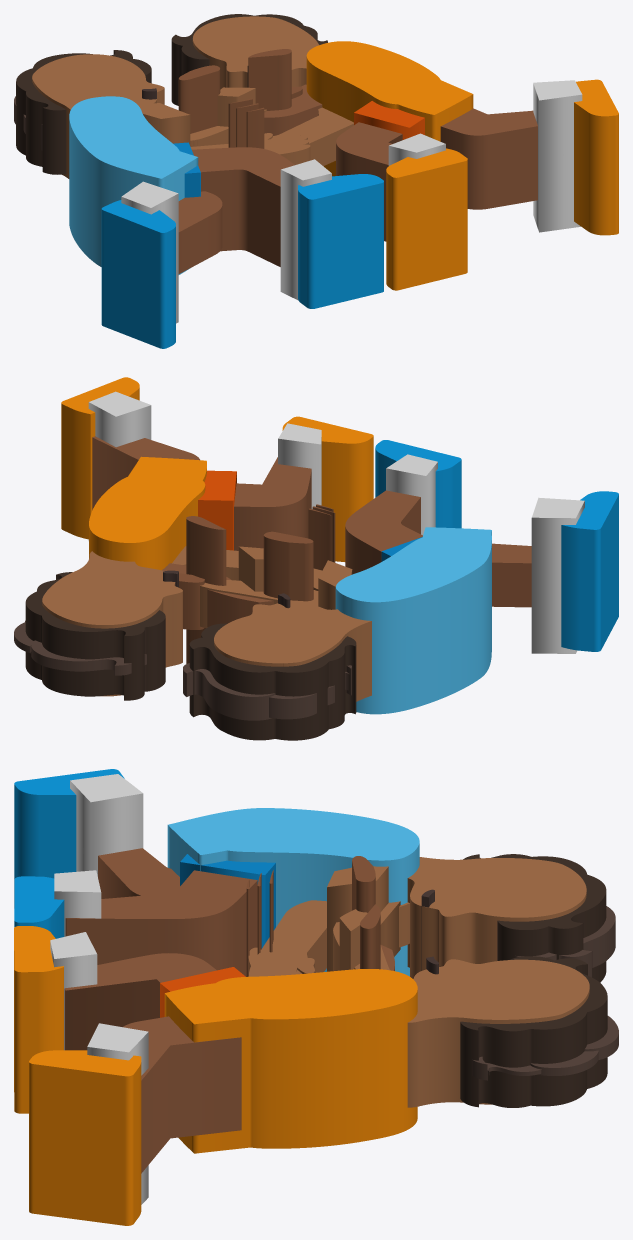
File: emoji_u1f93c_1f3fe.glb
The picture shows the model from 3 angles, top to bottom: view 1: azimuth 30°, elevation 25°; view 2: azimuth 150°, elevation 25°; view 3: azimuth 270°, elevation 25°; orthographic projection. The views are drawn at different scales.
Visible parts, largest first — view 1: emoji_u1f93c_1f3fe; view 2: emoji_u1f93c_1f3fe; view 3: emoji_u1f93c_1f3fe.
Boxes of the visible parts, x1=… form: emoji_u1f93c_1f3fe: x1=14, y1=14, x2=618, y2=348; emoji_u1f93c_1f3fe: x1=14, y1=377, x2=618, y2=740; emoji_u1f93c_1f3fe: x1=14, y1=769, x2=618, y2=1225.
Bounding box in the file's own units: 0.0328 × 0.0092 × 0.0271.
